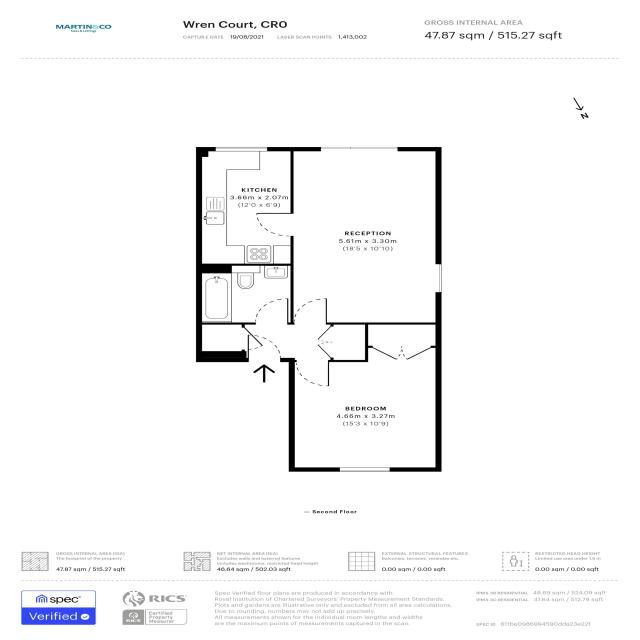DOOR: (367, 344, 437, 362), (252, 295, 289, 325), (253, 211, 294, 238), (246, 333, 284, 362), (292, 296, 328, 324), (294, 360, 331, 387), (315, 324, 335, 360)
ROOM: (247, 147, 441, 325), (289, 322, 442, 472), (196, 146, 294, 264)
WINDOW: (319, 145, 400, 152), (336, 465, 393, 473), (214, 145, 269, 153), (434, 261, 444, 295)
